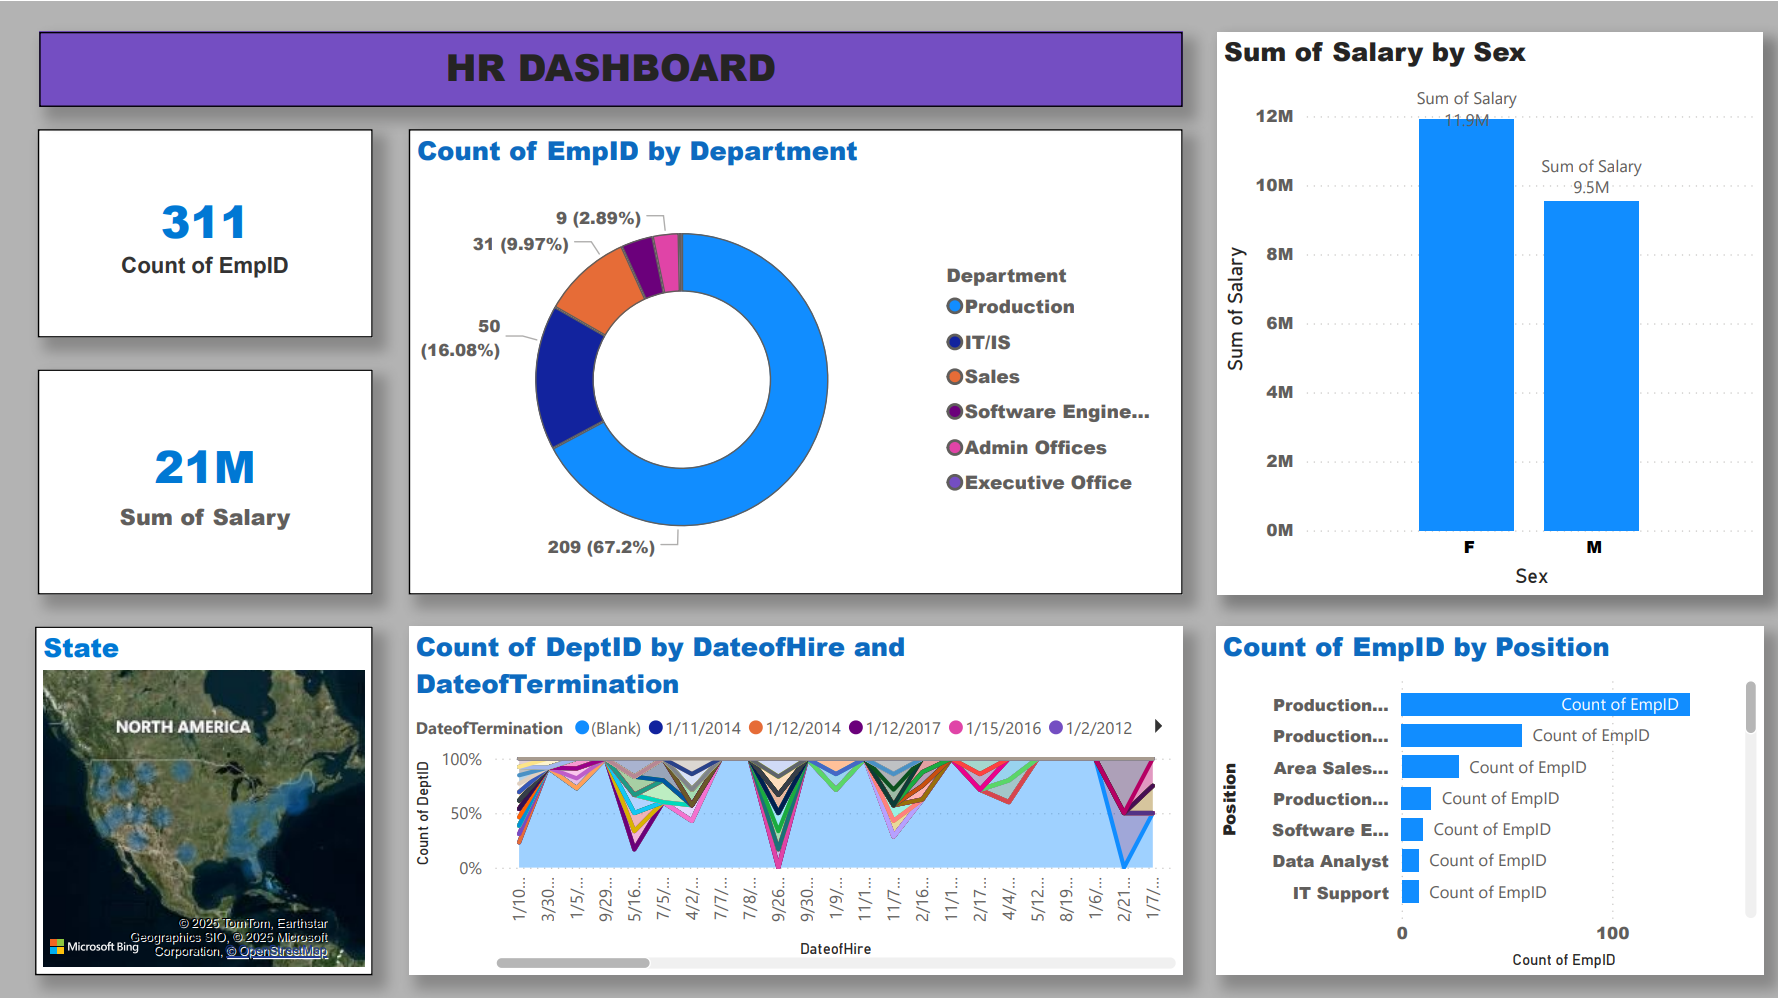

This screenshot's page, from the dashboard's own definition file:
{"tool":"powerbi","page":{"name":"Page 1","canvas":[1280,720],"ordinal":0},"visuals":[{"type":"card","fields":{"Values":["CountNonNull(HRDataset_v14.EmpID)"]},"box":[27.4,91.9,240.1,149.6],"z":0},{"type":"donutChart","fields":{"Category":["HRDataset_v14.Department"],"Y":["CountNonNull(HRDataset_v14.EmpID)"]},"box":[293.7,91.9,557.1,334.8],"z":1000},{"type":"columnChart","fields":{"Y":["Sum(HRDataset_v14.Salary)"],"Category":["HRDataset_v14.Sex"]},"box":[875.9,21.7,393.3,405.4],"z":2000},{"type":"card","fields":{"Values":["Sum(HRDataset_v14.Salary)"]},"box":[27.4,264.8,240.1,161.9],"z":3000},{"type":"map","fields":{"Category":["HRDataset_v14.State"]},"box":[24.7,450.1,242.9,251.1],"z":4000},{"type":"clusteredBarChart","fields":{"Category":["HRDataset_v14.Position"],"Y":["CountNonNull(HRDataset_v14.EmpID)"]},"box":[875.5,450.1,393.8,251.1],"z":5000},{"type":"hundredPercentStackedAreaChart","fields":{"Category":["HRDataset_v14.DateofHire"],"Series":["HRDataset_v14.DateofTermination"],"Y":["CountNonNull(HRDataset_v14.DeptID)"]},"box":[293.7,450.1,557.1,251.1],"z":6000},{"type":"textbox","box":[27.7,21.7,822.8,54.3],"z":7000}]}

Visuals, with their boxes in screenshot pixels (x1, y1, x2, y2), scaled from the page's 1280x720 canvas onto the 1778x998 screenshot:
card - CountNonNull(HRDataset_v14.EmpID): box=[38, 127, 372, 335]
donutChart - HRDataset_v14.Department x CountNonNull(HRDataset_v14.EmpID): box=[408, 127, 1182, 591]
columnChart - Sum(HRDataset_v14.Salary) x HRDataset_v14.Sex: box=[1217, 30, 1763, 592]
card - Sum(HRDataset_v14.Salary): box=[38, 367, 372, 591]
map - HRDataset_v14.State: box=[34, 624, 372, 972]
clusteredBarChart - HRDataset_v14.Position x CountNonNull(HRDataset_v14.EmpID): box=[1216, 624, 1763, 972]
hundredPercentStackedAreaChart - HRDataset_v14.DateofHire x HRDataset_v14.DateofTermination: box=[408, 624, 1182, 972]
textbox: box=[38, 30, 1181, 105]
